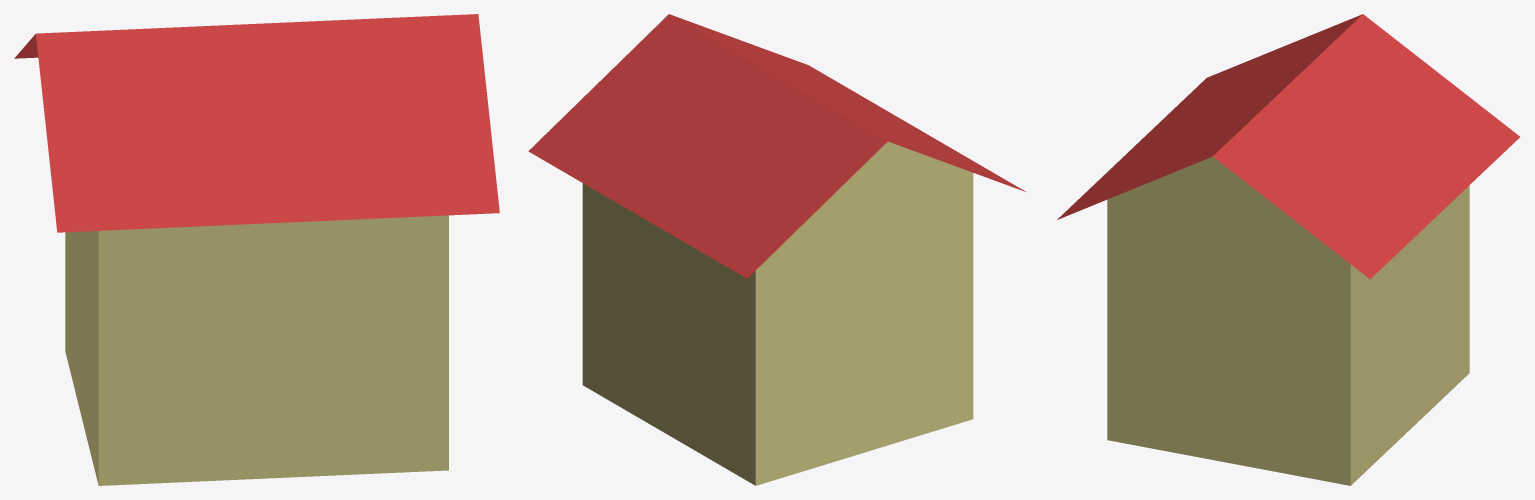
3 views of the same model, side by side, from view 1: azimuth 30°, elevation 25°; view 2: azimuth 150°, elevation 25°; view 3: azimuth 270°, elevation 25° (orthographic). The views are drawn at different scales.
Bounding box in the file's own units: 9.28 × 9.03 × 6.89.
